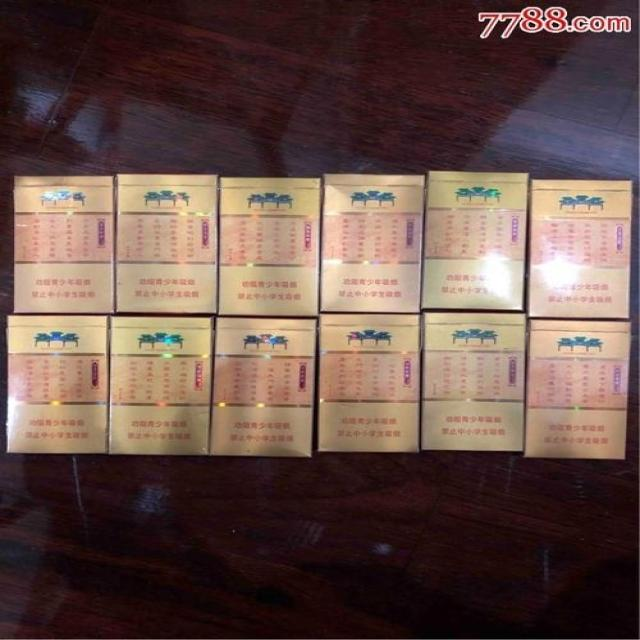box: (207, 314, 319, 457), (522, 318, 631, 461), (420, 172, 532, 311), (109, 314, 218, 456), (522, 180, 632, 319), (319, 174, 426, 313), (420, 313, 526, 453), (115, 174, 219, 315), (216, 178, 321, 317), (6, 315, 109, 455), (317, 314, 420, 453), (14, 176, 115, 314)
